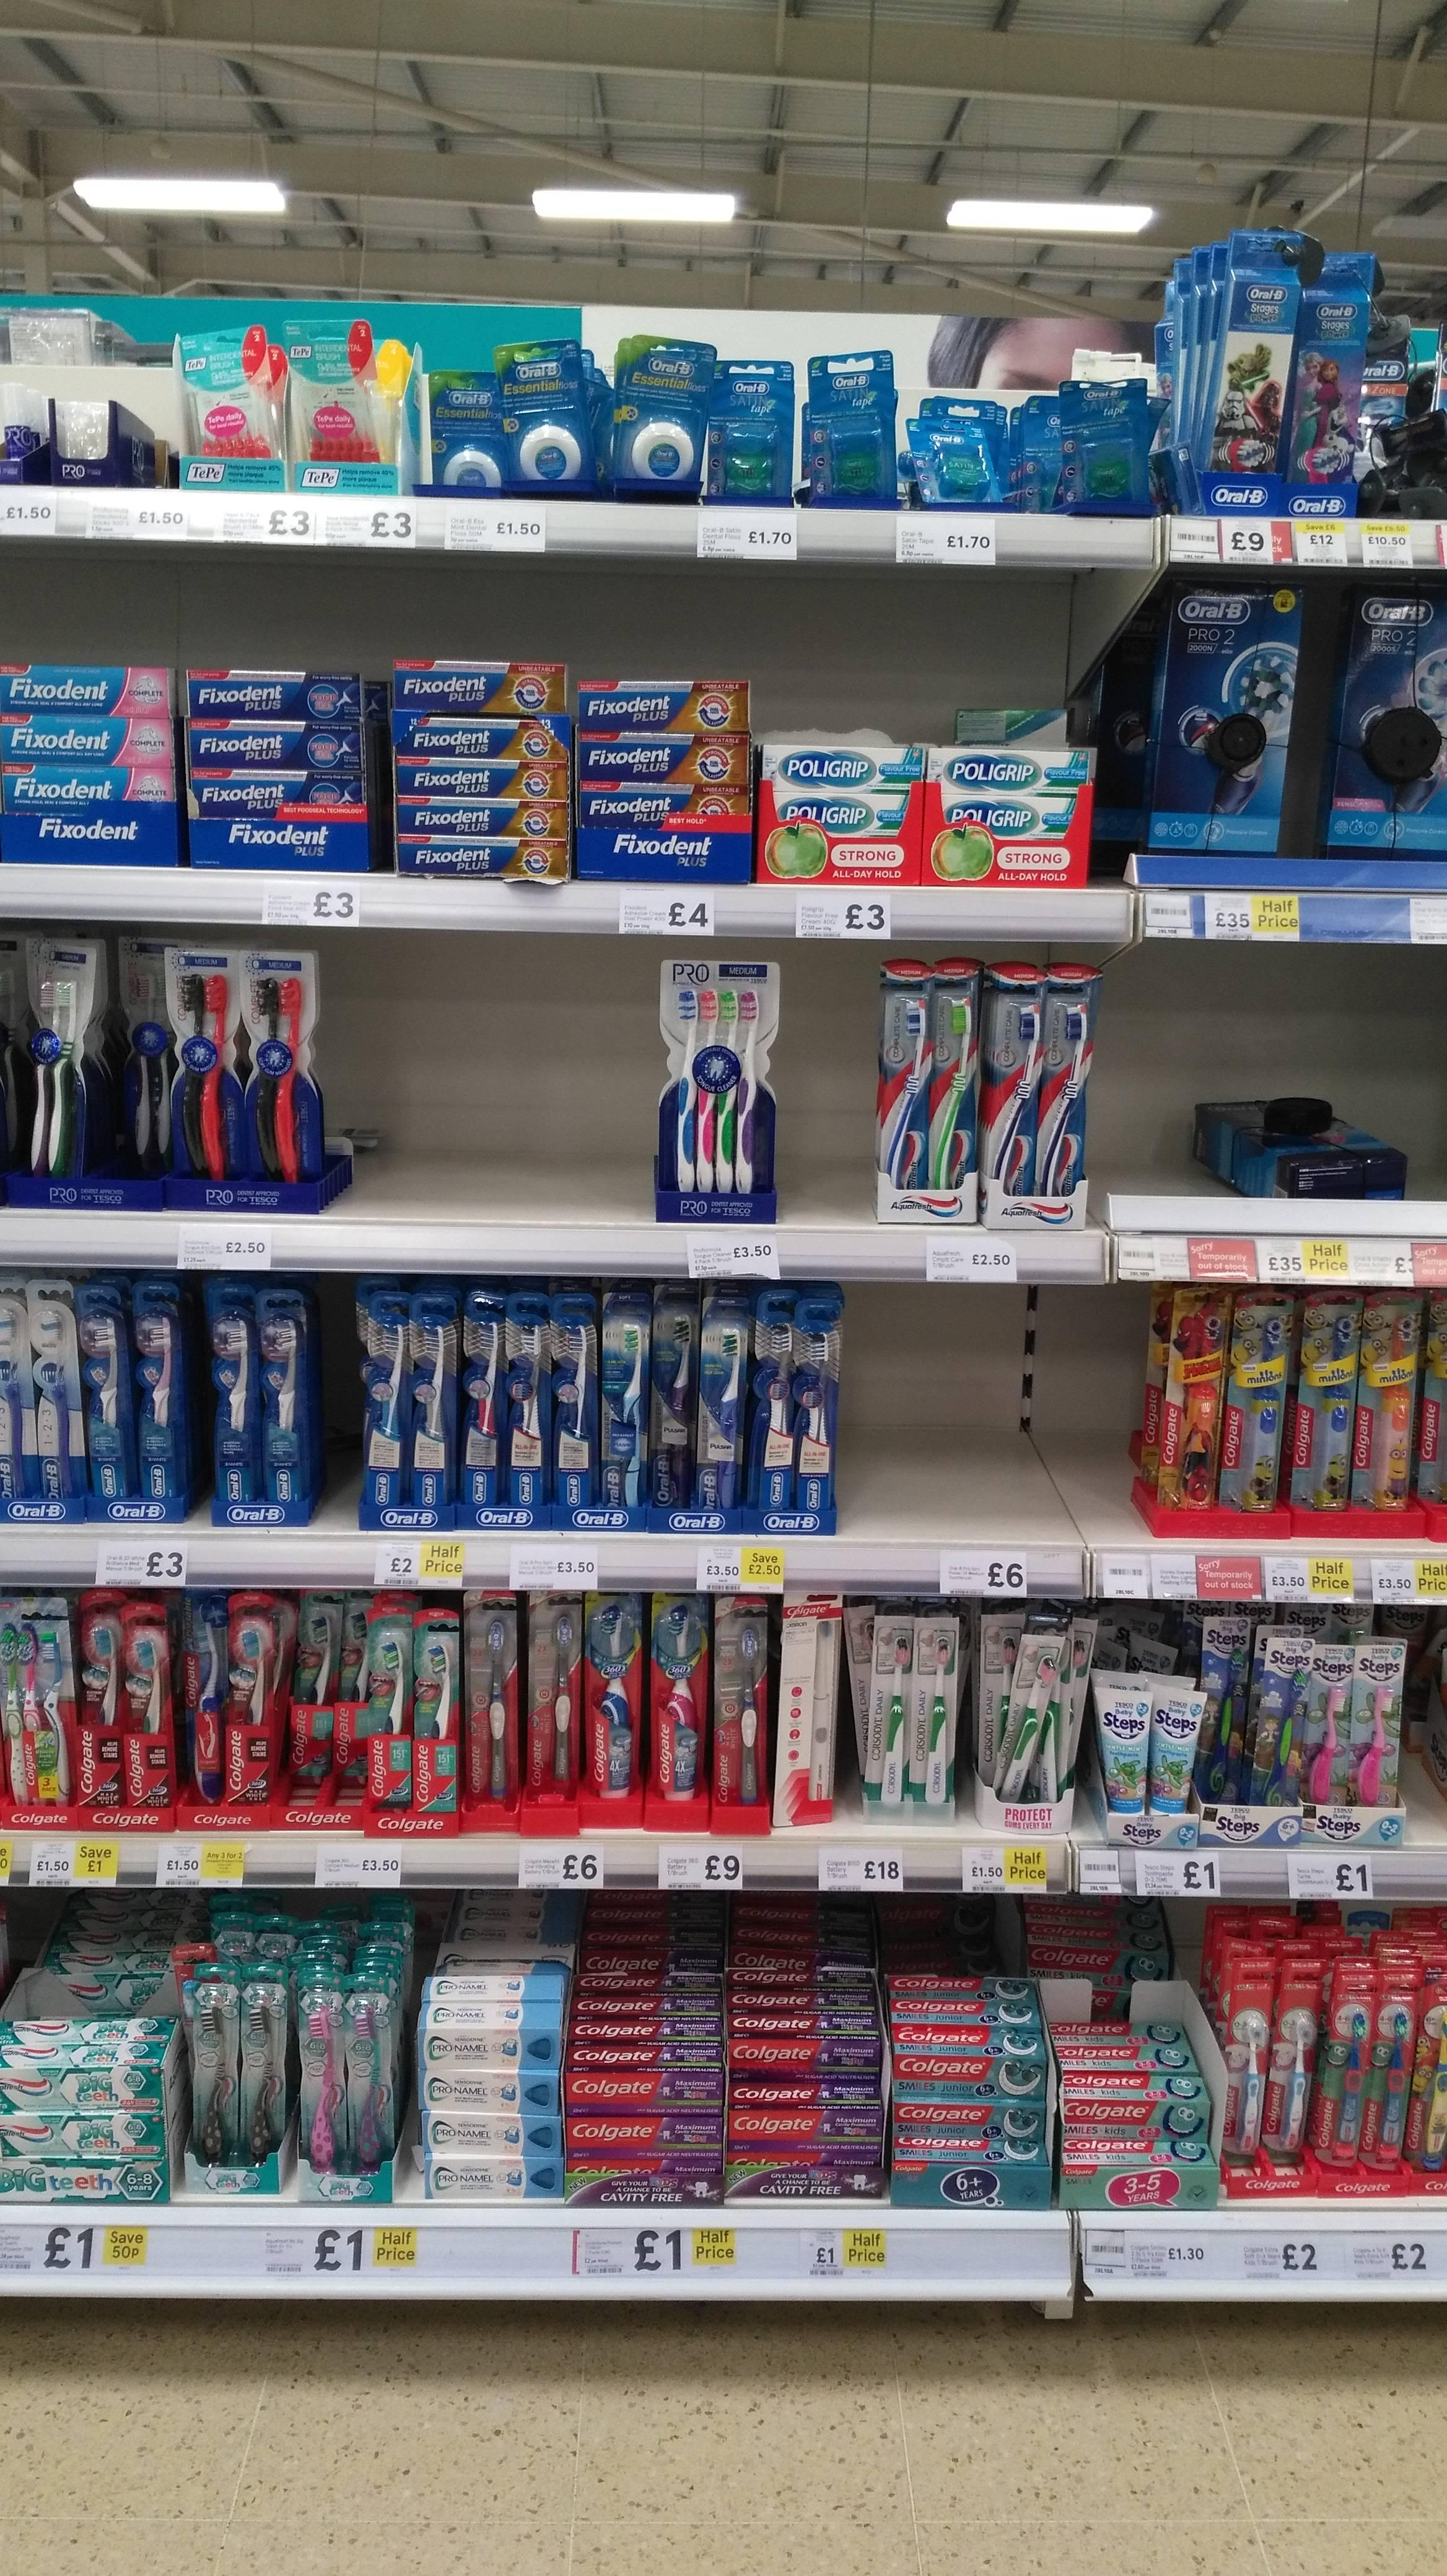misalignment: (1180, 1072, 1422, 1208), (421, 356, 601, 494), (771, 1601, 842, 1826), (1054, 379, 1157, 518), (626, 340, 718, 492), (900, 414, 1008, 511), (1008, 1638, 1054, 1808)
